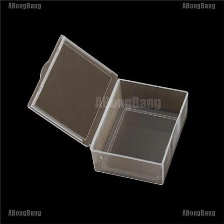plastic_box: (19, 28, 194, 192)
